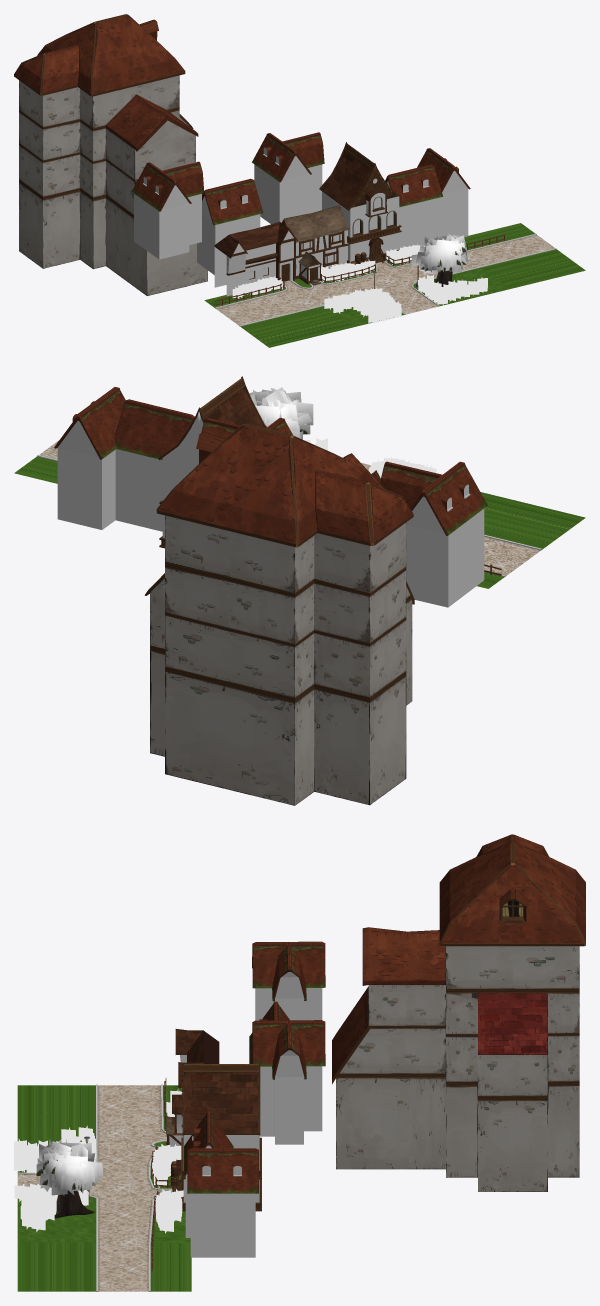
Rendered from dockIntersection 1.fbx.
3 views of the same model, one above another, from view 1: azimuth 30°, elevation 25°; view 2: azimuth 150°, elevation 25°; view 3: azimuth 270°, elevation 25° (orthographic). The views are drawn at different scales.
Parts seen in each view (by area): view 1: Plane, Cylinder.001; view 2: Plane, Cylinder.001; view 3: Plane, Cylinder.001.
Boxes of the visible parts, x1=… form: Plane: x1=14, y1=14, x2=585, y2=347; Cylinder.001: x1=232, y1=233, x2=487, y2=323; Plane: x1=14, y1=376, x2=585, y2=805; Cylinder.001: x1=249, y1=387, x2=436, y2=478; Plane: x1=17, y1=834, x2=585, y2=1291; Cylinder.001: x1=14, y1=1088, x2=183, y2=1233.
Bounding box in the file's own units: 7762 × 4404 × 7694.
